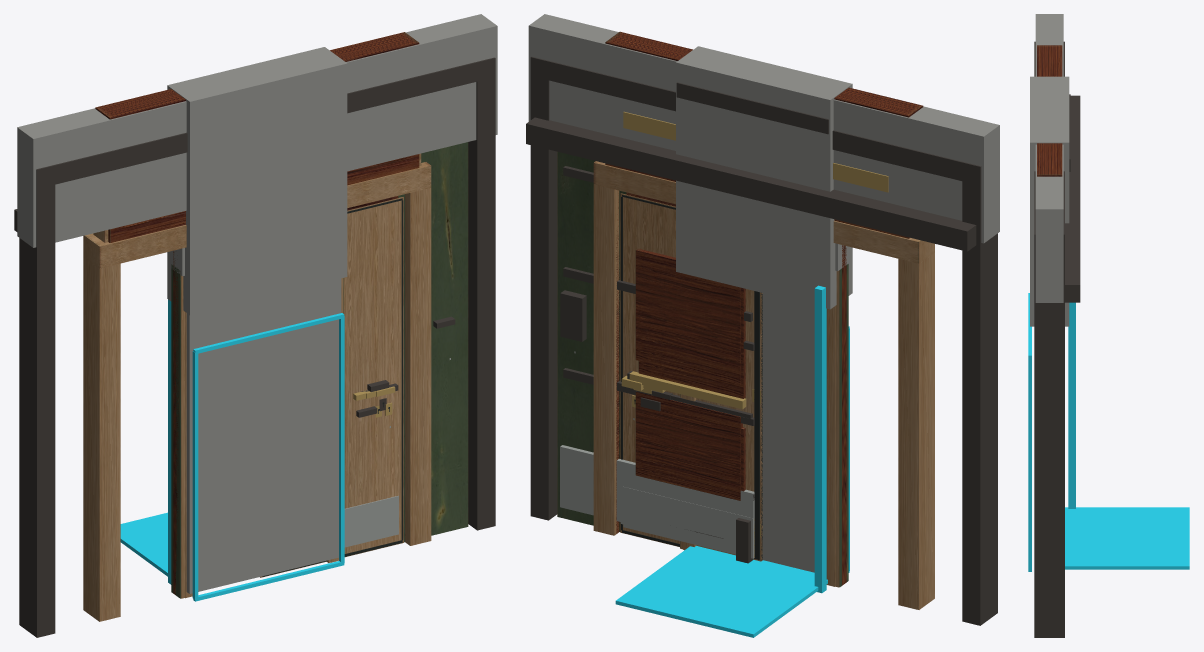
File: conservatory-doors.glb
3 views of the same model, side by side, from view 1: azimuth 30°, elevation 25°; view 2: azimuth 150°, elevation 25°; view 3: azimuth 270°, elevation 25° (orthographic). The views are drawn at different scales.
Parts seen in each view (by area): view 1: door_sealed_scar, door_head_tower, door_frame_goods, door_head_goods, door_frame_hall, door_leaf_hall, door_leaf_bay_goods, door_debug_aperture, door_head_tympanum, door_frame_single_steel, door_debug_swing, door_frame_single_oak (+1 smaller); view 2: door_leaf_hall, door_head_goods, door_frame_goods, door_head_tower, door_frame_hall, door_leaf_bay_goods, door_sealed_scar, door_debug_swing, door_head_tympanum, door_debug_hinge, door_frame_tower, door_leaf_chapel (+4 smaller); view 3: door_frame_goods, door_debug_swing, door_head_goods, door_head_tower, door_head_tympanum, door_debug_hinge, door_debug_aperture.
Boxes of the visible parts, left/top/right/bottom form: door_sealed_scar: left=173, top=54, right=341, bottom=594; door_head_tower: left=167, top=47, right=347, bottom=315; door_frame_goods: left=19, top=57, right=495, bottom=637; door_head_goods: left=14, top=14, right=497, bottom=247; door_frame_hall: left=83, top=162, right=431, bottom=621; door_leaf_hall: left=260, top=197, right=403, bottom=577; door_leaf_bay_goods: left=398, top=142, right=468, bottom=542; door_debug_aperture: left=192, top=313, right=344, bottom=601; door_head_tympanum: left=95, top=32, right=419, bottom=243; door_frame_single_steel: left=171, top=264, right=343, bottom=598; door_debug_swing: left=120, top=512, right=167, bottom=576; door_frame_single_oak: left=181, top=275, right=342, bottom=598; door_leaf_hall: left=620, top=193, right=762, bottom=561; door_head_goods: left=526, top=14, right=999, bottom=251; door_frame_goods: left=530, top=56, right=997, bottom=625; door_head_tower: left=676, top=46, right=852, bottom=309; door_frame_hall: left=593, top=161, right=934, bottom=609; door_leaf_bay_goods: left=557, top=151, right=754, bottom=563; door_sealed_scar: left=686, top=54, right=846, bottom=585; door_debug_swing: left=615, top=546, right=827, bottom=637; door_head_tympanum: left=605, top=31, right=923, bottom=238; door_debug_hinge: left=814, top=285, right=826, bottom=593; door_frame_tower: left=683, top=306, right=835, bottom=586; door_leaf_chapel: left=626, top=192, right=745, bottom=491; door_frame_goods: left=1034, top=41, right=1064, bottom=637; door_debug_swing: left=1065, top=507, right=1189, bottom=569; door_head_goods: left=1035, top=14, right=1080, bottom=302; door_head_tower: left=1030, top=76, right=1069, bottom=326; door_head_tympanum: left=1037, top=45, right=1070, bottom=176; door_debug_hinge: left=1068, top=302, right=1075, bottom=508; door_debug_aperture: left=1028, top=293, right=1031, bottom=571.
Bounding box in the file's own units: 3.3 × 3.4 × 1.15.
10 materials, 3 textured.
